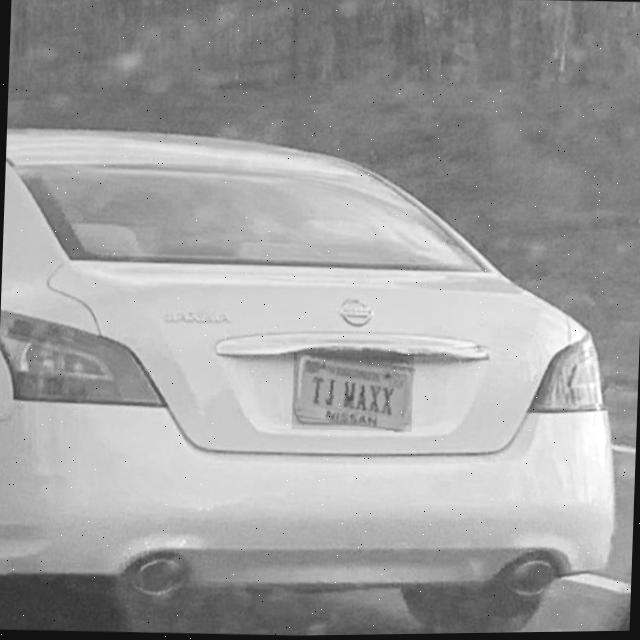LicensePlate: (292, 354, 413, 432)
